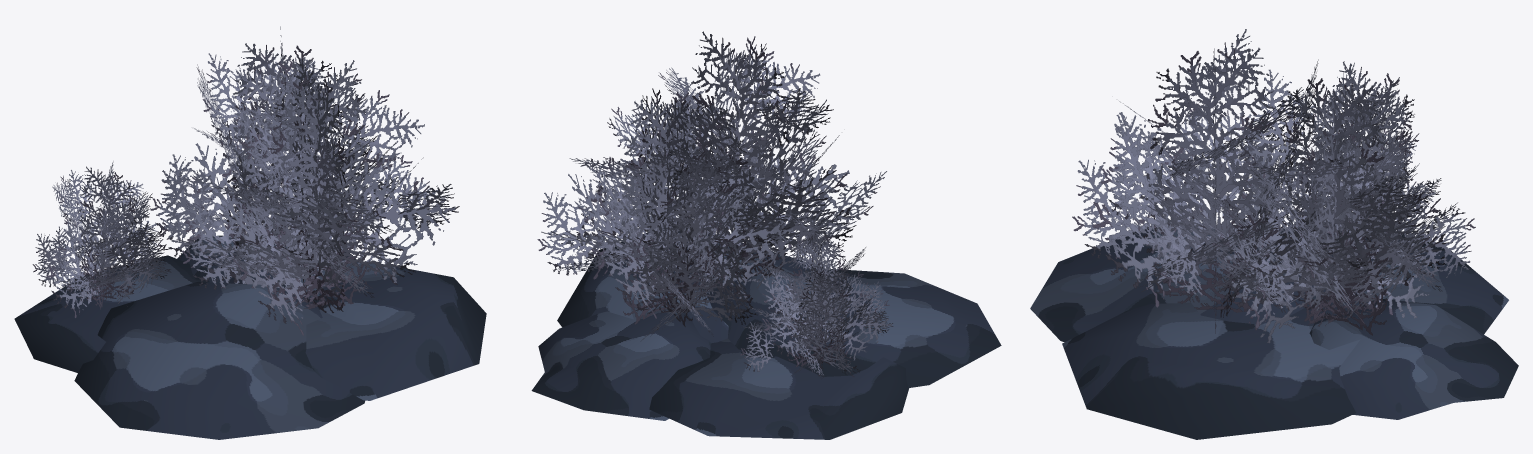
Rendered from Gorgonian Coral 6_preview_3DS_simplified.glb.
3 renders of one model, left to right at view 1: azimuth 30°, elevation 25°; view 2: azimuth 150°, elevation 25°; view 3: azimuth 270°, elevation 25°, orthographic. The views are drawn at different scales.
Parts seen in each view (by area): view 1: Marine Park Empire model; view 2: Marine Park Empire model; view 3: Marine Park Empire model.
Part boxes in pixels (bbox=[...]): Marine Park Empire model: bbox=[14, 26, 486, 439]; Marine Park Empire model: bbox=[531, 31, 1001, 439]; Marine Park Empire model: bbox=[1030, 29, 1518, 439].
Size of the model in its own units: 196 by 140 by 192.
2 materials, 2 textured.
